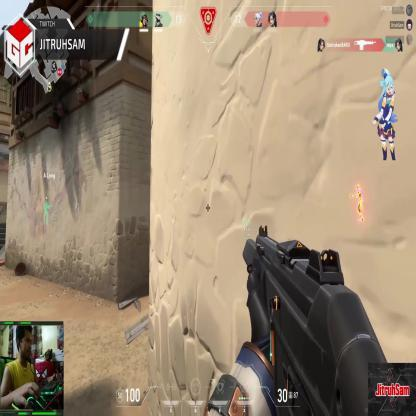enemy: (350, 184, 364, 224)
enemy_head: (354, 182, 361, 194)
